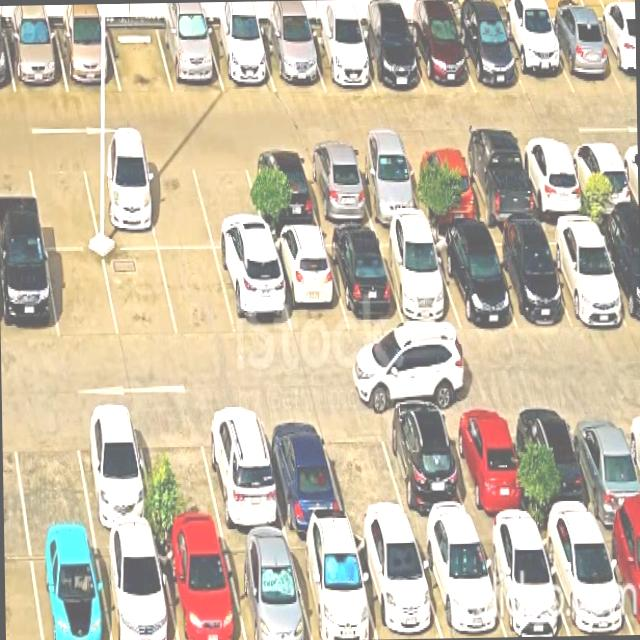empty: (318, 409, 410, 529), (135, 410, 222, 534), (10, 410, 92, 536), (190, 152, 267, 248), (139, 155, 213, 248), (27, 155, 99, 248), (103, 249, 177, 339), (159, 250, 235, 337), (46, 250, 118, 340), (106, 25, 173, 92)
occupied: (377, 405, 474, 530), (442, 403, 533, 527), (198, 406, 285, 532), (258, 409, 346, 530), (538, 523, 632, 636), (513, 402, 598, 526), (72, 409, 156, 533), (476, 528, 569, 637), (414, 529, 506, 638), (352, 532, 442, 639), (287, 532, 376, 640), (221, 535, 312, 640), (156, 535, 244, 640), (565, 401, 640, 522), (540, 223, 628, 324), (482, 230, 570, 328), (95, 535, 177, 640), (28, 536, 110, 640), (430, 232, 516, 330), (376, 232, 461, 329), (268, 233, 348, 335), (323, 231, 405, 330), (81, 155, 157, 248), (215, 249, 291, 335), (457, 146, 537, 224), (244, 151, 320, 230), (299, 150, 374, 227), (404, 148, 480, 223), (498, 21, 574, 96), (543, 21, 622, 93), (350, 149, 425, 224), (0, 245, 58, 341), (516, 142, 588, 218), (566, 141, 637, 215), (454, 20, 525, 93), (406, 20, 475, 94), (594, 222, 640, 328), (598, 520, 640, 635), (355, 24, 425, 92), (206, 26, 275, 93), (157, 25, 223, 93), (306, 28, 375, 92), (55, 26, 120, 92), (4, 27, 67, 93), (260, 29, 324, 91), (593, 21, 636, 92)
